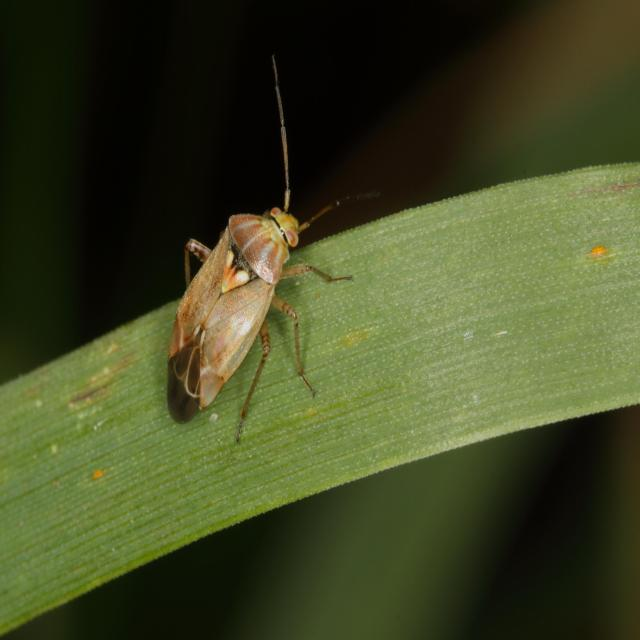Miridae-Adult-: (150, 70, 333, 427)
